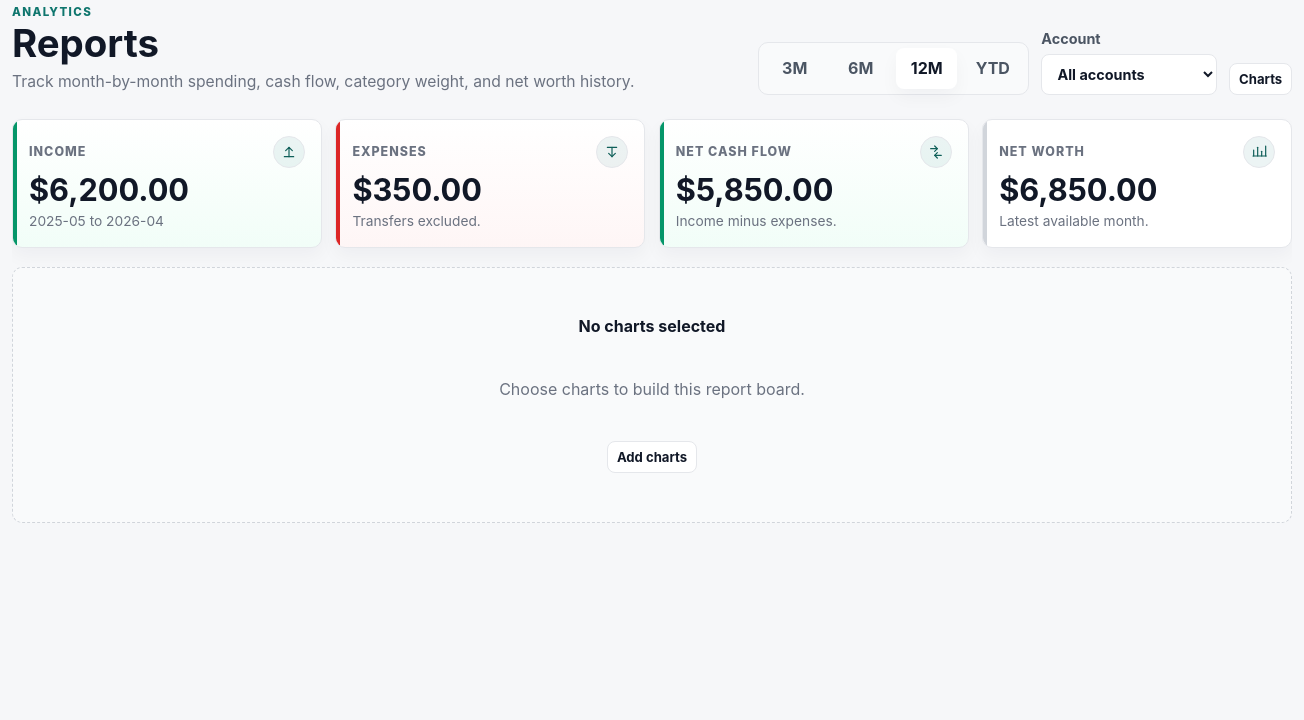
ReportsPage › shows an add-charts state when every chart is hidden
The image size is (1304, 720).
Expected: the text "No charts selected" is shown, [579,316,726,336]
Click the button "Add charts": point(652, 457) [607,441,697,473]
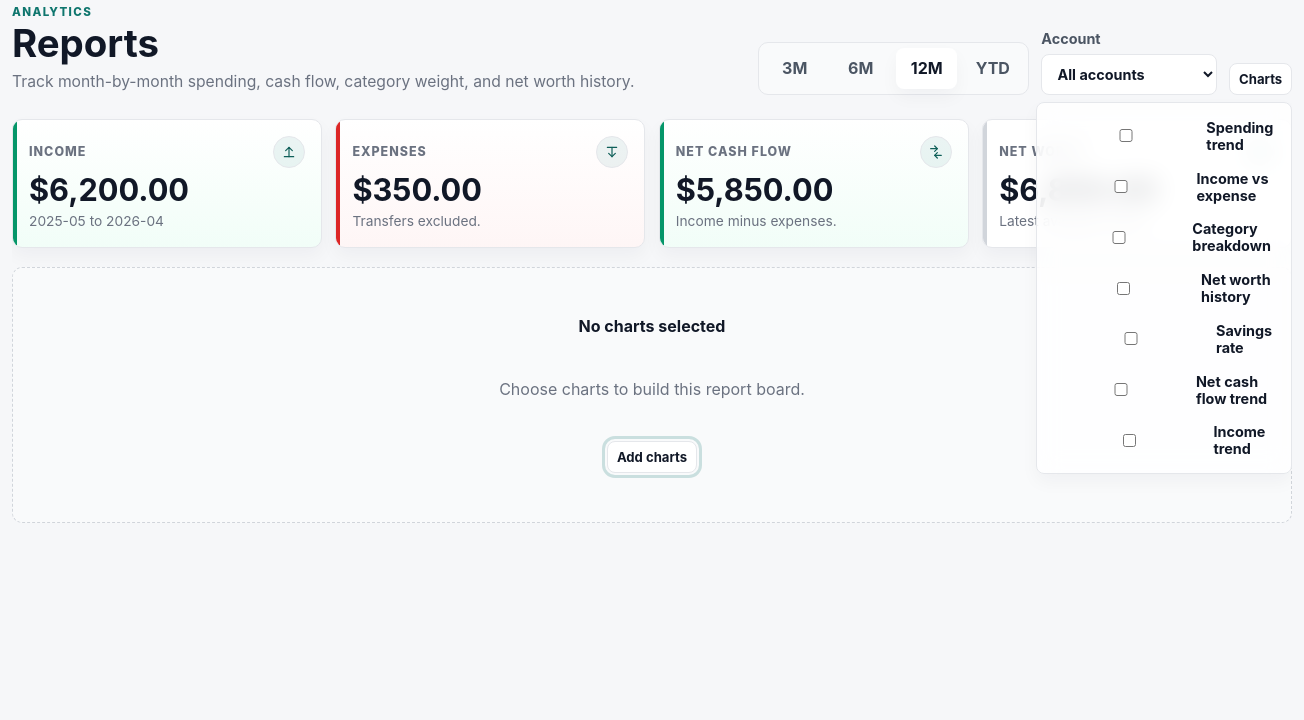
Click the checkbox labelled "Income trend": point(1129, 440) [1059,434,1200,447]
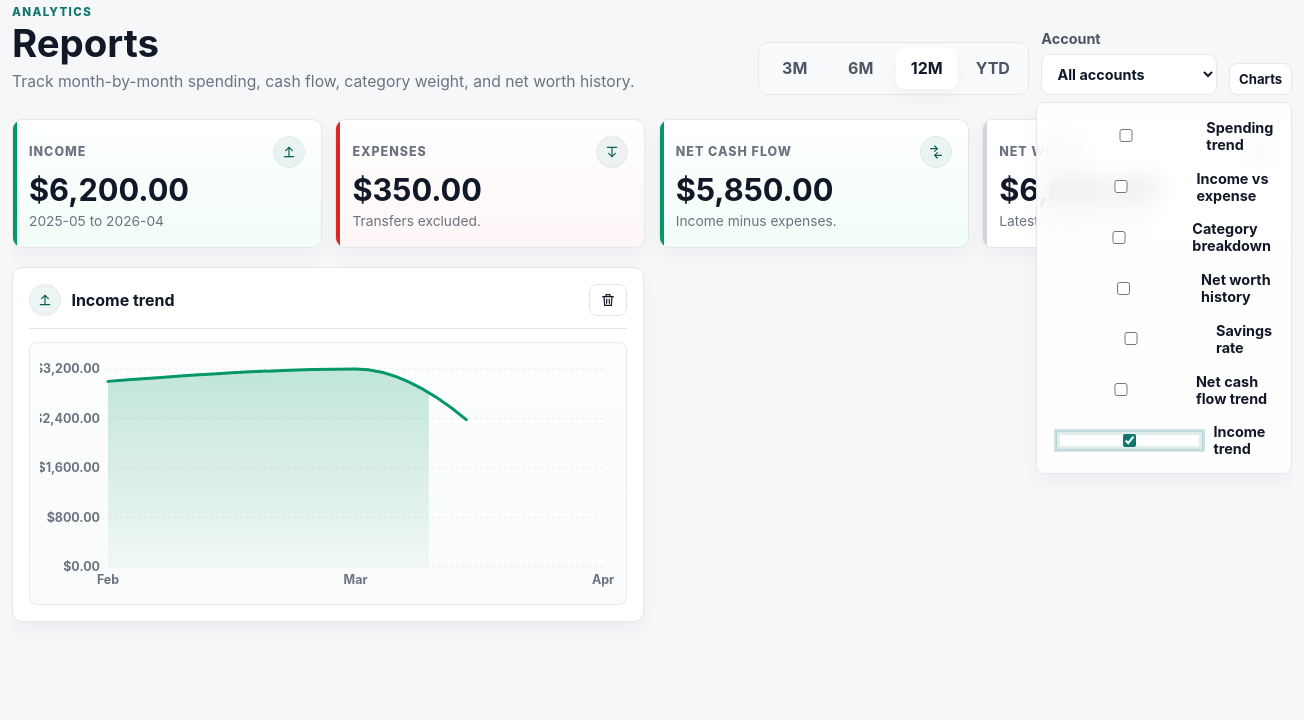
Expected: the heading "Income trend" is shown, [71,290,175,310]
